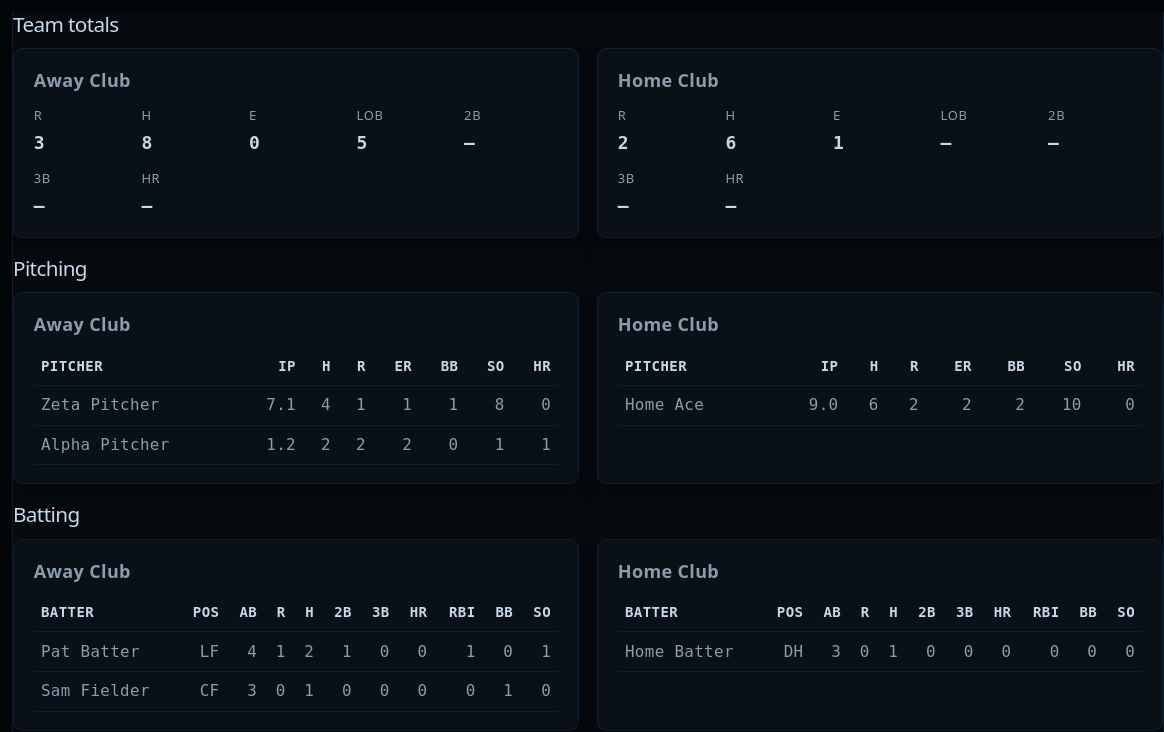
Test case: GameBoxscorePanel › sorts the home pitching table independently of the away table
The image size is (1164, 732).
Click the 2nd button "SO": (1073, 366) x1=1064 y1=353 x2=1082 y2=379
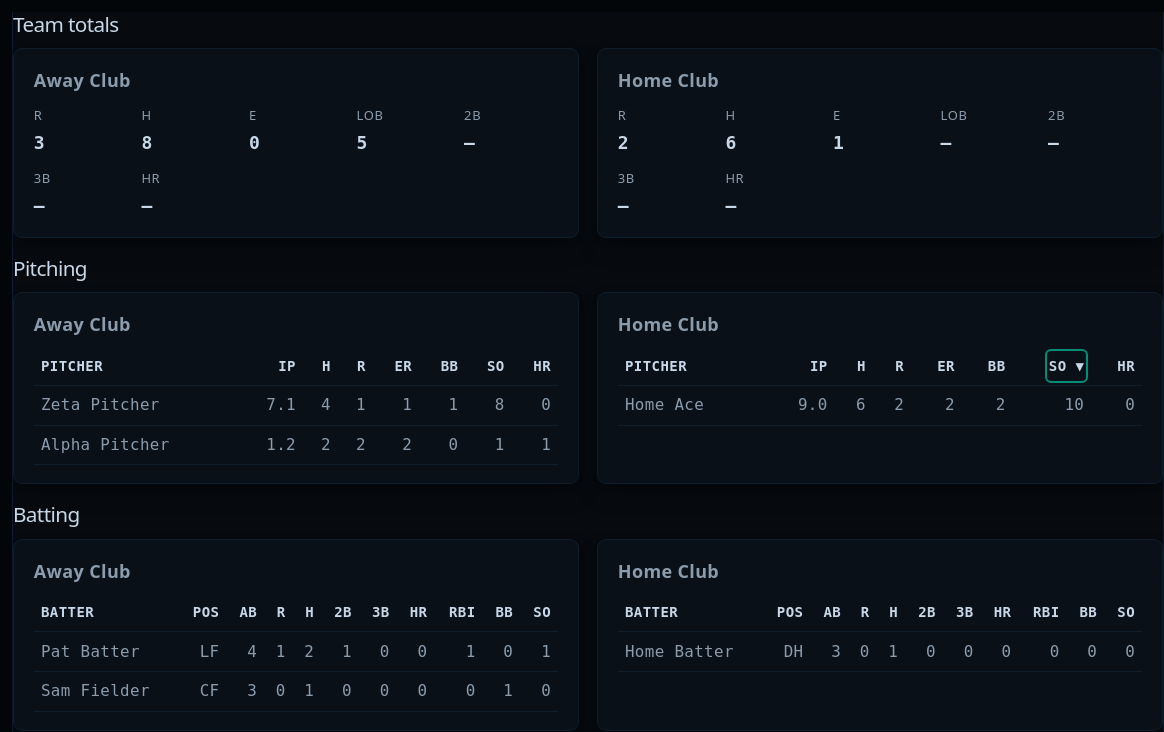
expect the button "SO ▼" is shown: met, box x1=1049 y1=353 x2=1084 y2=379
